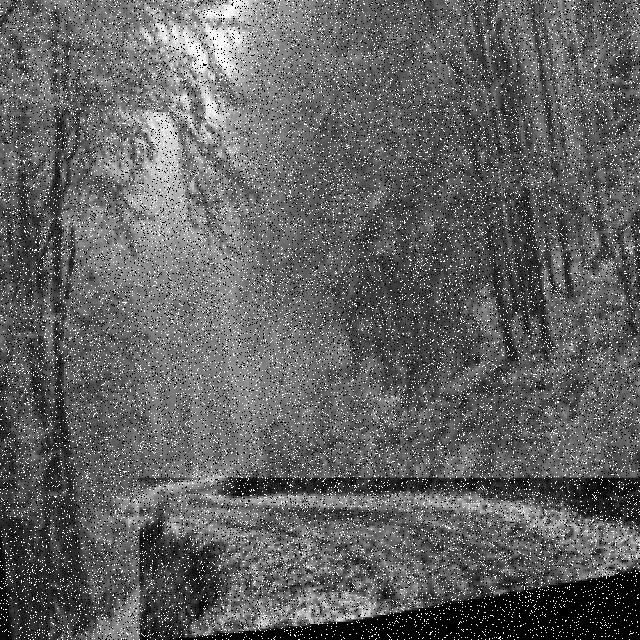ice-road: (141, 479, 640, 640)
